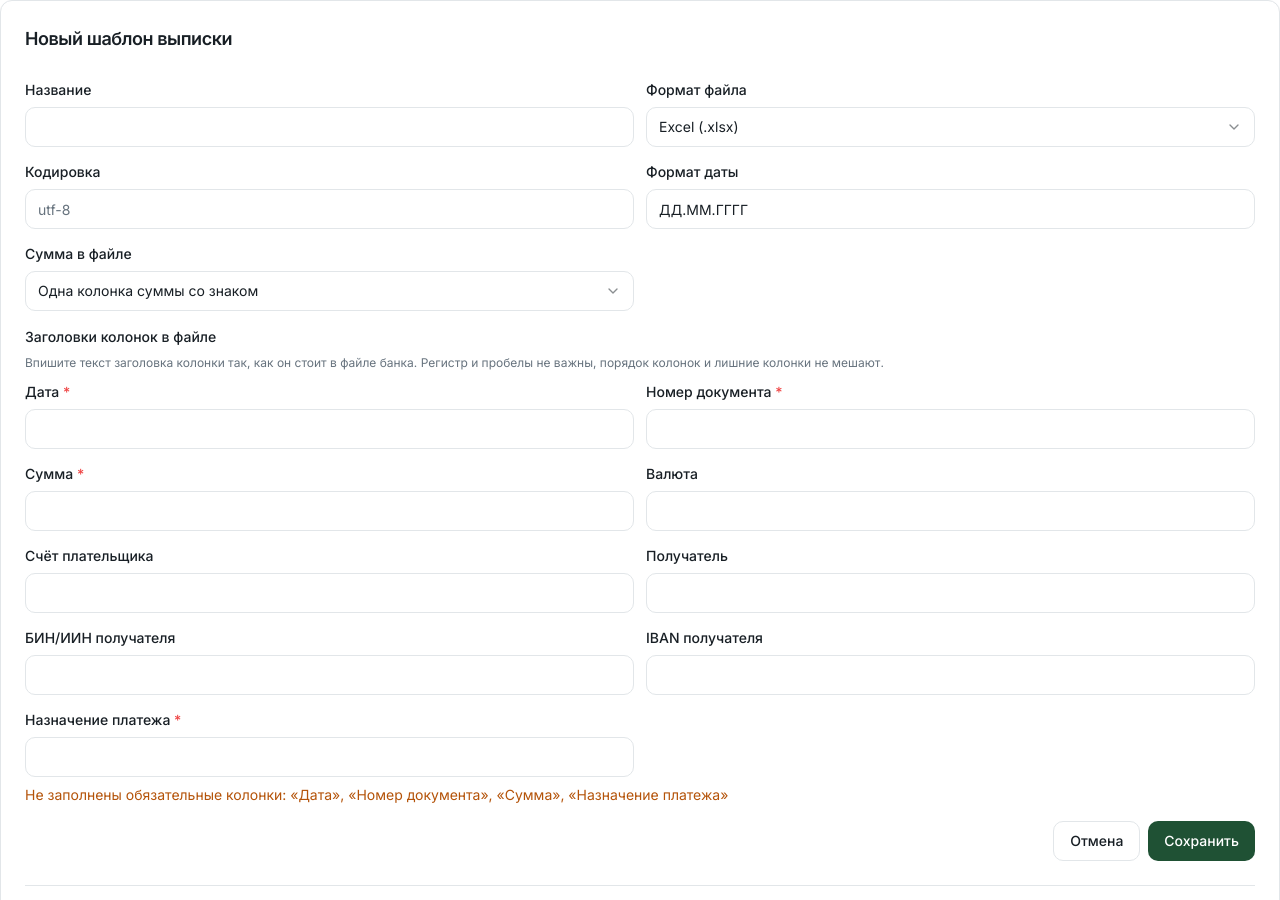
Test: TemplateEditor › 1С — колонки не нужны, предупреждения нет
Click the dropdown named "Формат файла": point(699, 126) [646,107,1255,147]
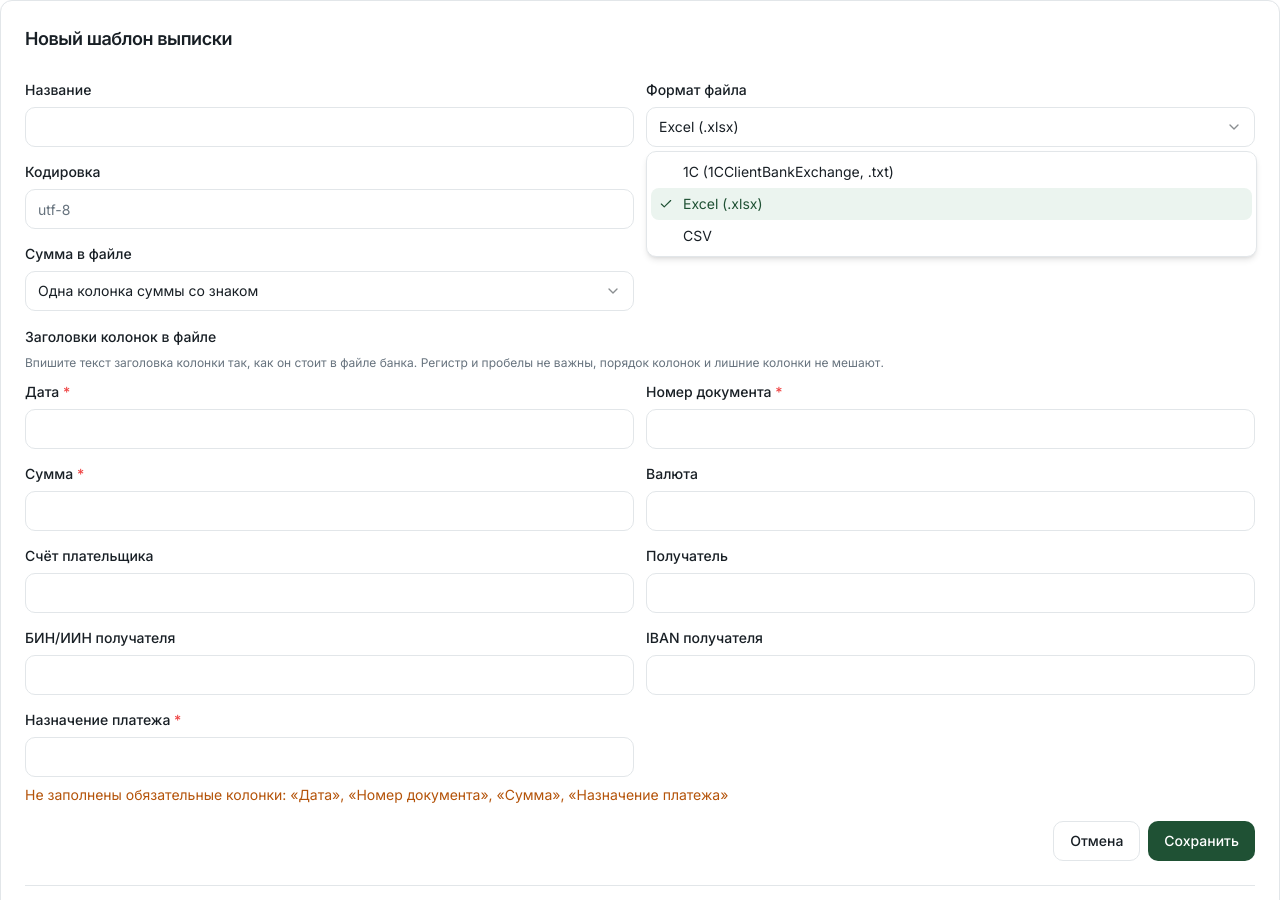
Click the option "1С (1CClientBankExchange, .txt)": point(788, 172) [683,163,894,180]
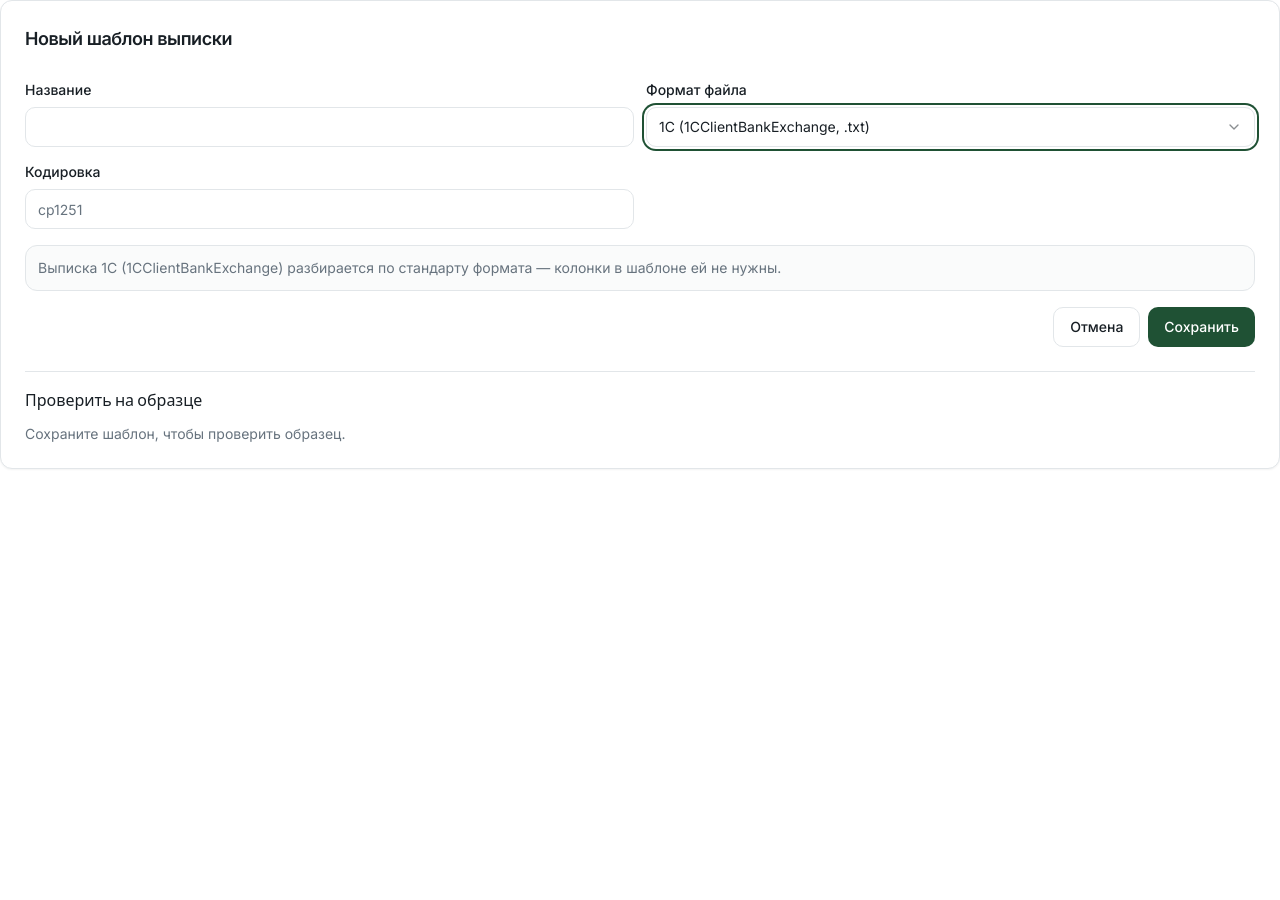
Expected: the message is gone
Expected: the text "колонки в шаблоне ей не нужны" is shown, [38,259,781,276]
